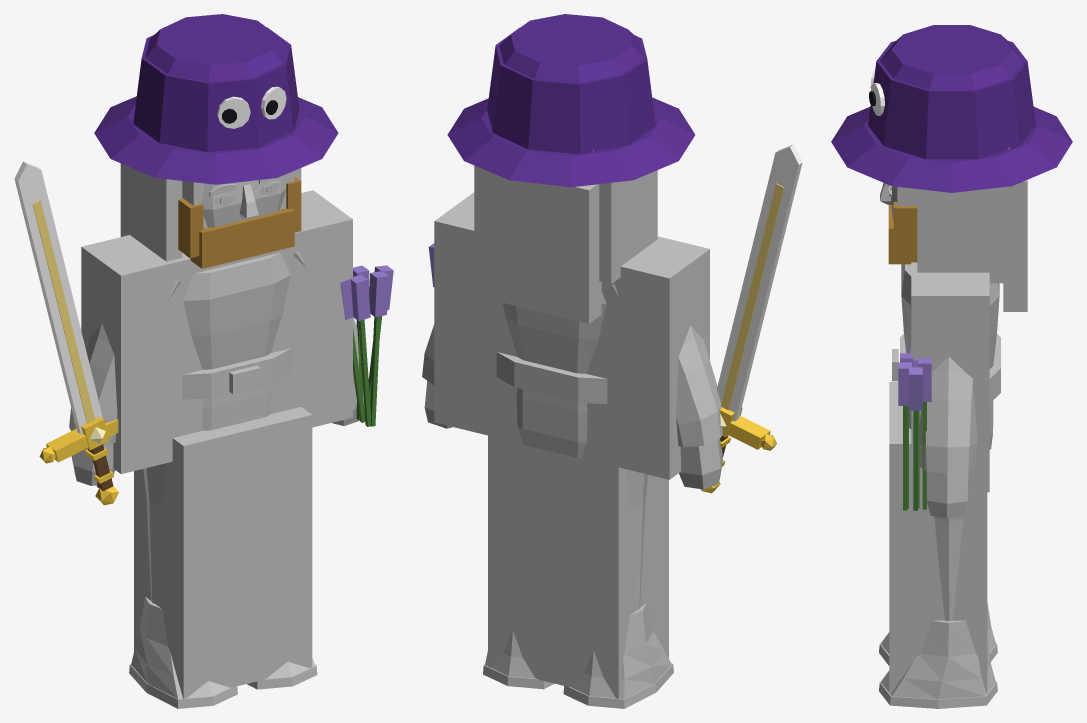
The model's file is kadro-egetunce.obj.
The picture shows the model from 3 angles, left to right: view 1: azimuth 30°, elevation 25°; view 2: azimuth 150°, elevation 25°; view 3: azimuth 270°, elevation 25°; orthographic projection. The views are drawn at different scales.
Visible parts, largest first — view 1: kalkaneri-uzak-bacak, kalkaneri-uzak-govde, egetunce-sapka, kalkaneri-govde, egetunce-sapka-kenari, egetunce-kilic, egetunce-sakal, egetunce-uzun-sac, kalkaneri-cizmeler, kalkaneri-kemer, kalkaneri-kollar, egetunce-lavanta (+10 smaller); view 2: kalkaneri-uzak-bacak, kalkaneri-uzak-govde, egetunce-uzun-sac, egetunce-sapka, egetunce-sapka-kenari, kalkaneri-govde, egetunce-kilic, kalkaneri-cizmeler, kalkaneri-kollar, kalkaneri-kemer, egetunce-kilic-isigi, kalkaneri-eller (+3 smaller); view 3: egetunce-sapka, kalkaneri-uzak-bacak, egetunce-uzun-sac, kalkaneri-uzak-govde, egetunce-sapka-kenari, kalkaneri-cizmeler, kalkaneri-kollar, kalkaneri-bacaklar, kalkaneri-eller, kalkaneri-govde, egetunce-lavanta-sapi, egetunce-sakal (+3 smaller).
Part boxes in pixels (x1,y1,x2,y2): kalkaneri-uzak-bacak: [134, 407, 312, 698]; kalkaneri-uzak-govde: [81, 190, 352, 473]; egetunce-sapka: [133, 14, 299, 152]; kalkaneri-govde: [183, 252, 290, 430]; egetunce-sapka-kenari: [94, 96, 338, 184]; egetunce-kilic: [14, 161, 102, 434]; egetunce-sakal: [178, 177, 301, 268]; egetunce-uzun-sac: [120, 163, 301, 261]; kalkaneri-cizmeler: [131, 597, 314, 698]; kalkaneri-kemer: [182, 348, 291, 399]; kalkaneri-kollar: [69, 250, 359, 443]; egetunce-lavanta: [340, 265, 393, 320]; kalkaneri-uzak-bacak: [488, 435, 668, 698]; kalkaneri-uzak-govde: [434, 192, 709, 479]; egetunce-uzun-sac: [474, 165, 657, 323]; egetunce-sapka: [487, 14, 655, 154]; egetunce-sapka-kenari: [447, 97, 695, 187]; kalkaneri-govde: [502, 291, 606, 458]; egetunce-kilic: [717, 144, 802, 421]; kalkaneri-cizmeler: [485, 603, 671, 698]; kalkaneri-kollar: [422, 284, 722, 447]; kalkaneri-kemer: [496, 352, 607, 404]; egetunce-kilic-isigi: [721, 183, 784, 410]; kalkaneri-eller: [424, 381, 722, 489]; egetunce-sapka: [868, 25, 1035, 159]; kalkaneri-uzak-bacak: [889, 382, 987, 694]; egetunce-uzun-sac: [917, 180, 1027, 311]; kalkaneri-uzak-govde: [911, 262, 989, 492]; egetunce-sapka-kenari: [831, 107, 1072, 192]; kalkaneri-cizmeler: [881, 602, 995, 699]; kalkaneri-kollar: [910, 287, 990, 473]; kalkaneri-bacaklar: [934, 492, 969, 621]; kalkaneri-eller: [926, 472, 968, 518]; kalkaneri-govde: [901, 264, 999, 449]; egetunce-lavanta-sapi: [903, 402, 926, 510]; egetunce-sakal: [888, 202, 917, 264].
Bounding box in the file's own units: 2.79 × 4.55 × 1.6.
